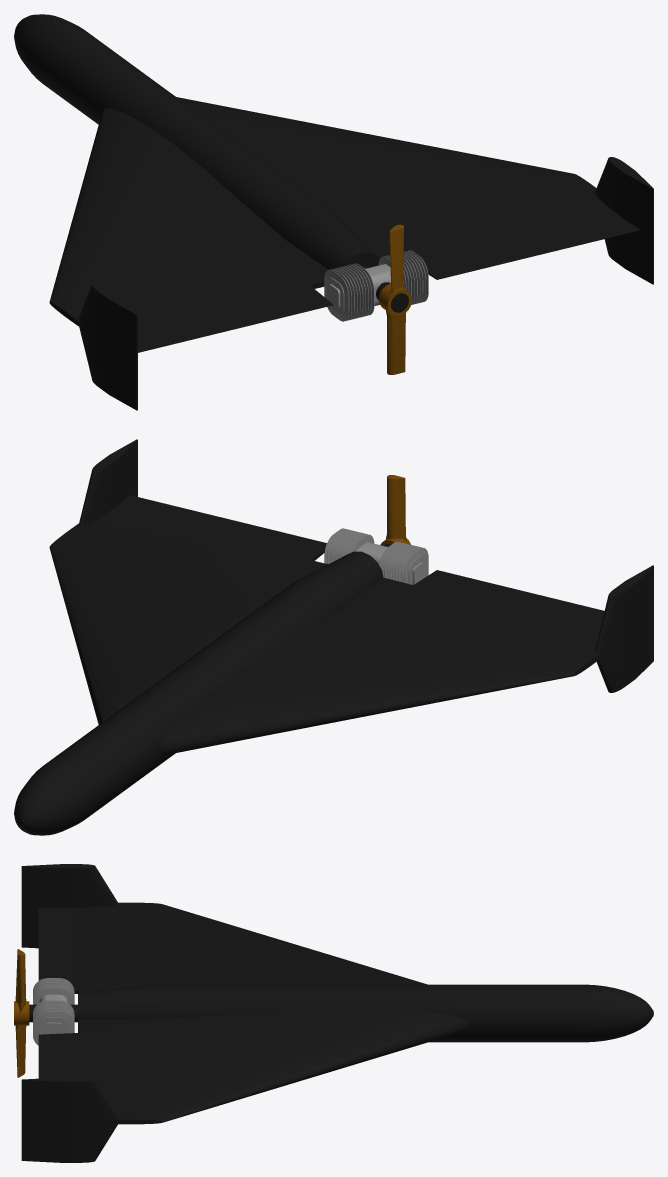
The model's file is Drone_Shahed_136.glb.
3 renders of one model, top to bottom at view 1: azimuth 30°, elevation 25°; view 2: azimuth 150°, elevation 25°; view 3: azimuth 270°, elevation 25°, orthographic. The views are drawn at different scales.
Visible parts, largest first — view 1: Shahed, Prop; view 2: Shahed, Prop; view 3: Shahed, Prop.
Boxes of the visible parts, x1=… form: Shahed: x1=14, y1=14, x2=653, y2=410; Prop: x1=385, y1=224, x2=406, y2=374; Shahed: x1=14, y1=439, x2=653, y2=835; Prop: x1=386, y1=475, x2=406, y2=541; Shahed: x1=14, y1=864, x2=653, y2=1162; Prop: x1=15, y1=949, x2=26, y2=1077.
Size of the model in its own units: 2.51 by 0.6623 by 3.12.
